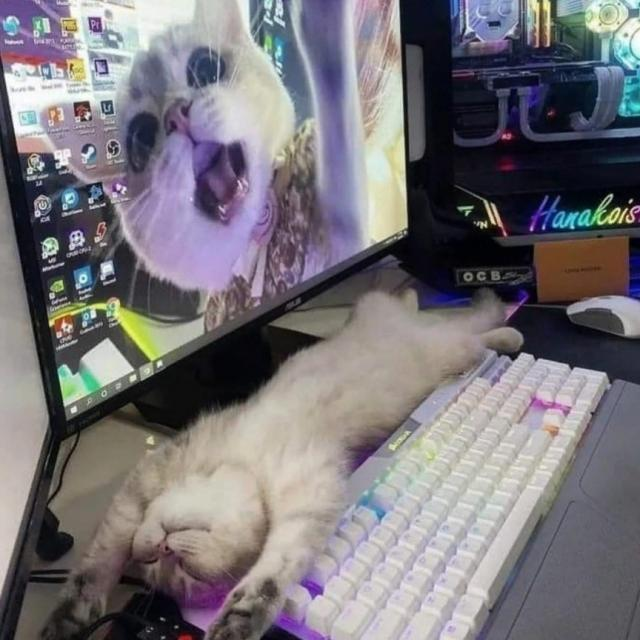Cats: (57, 418, 330, 638), (94, 29, 336, 270)
